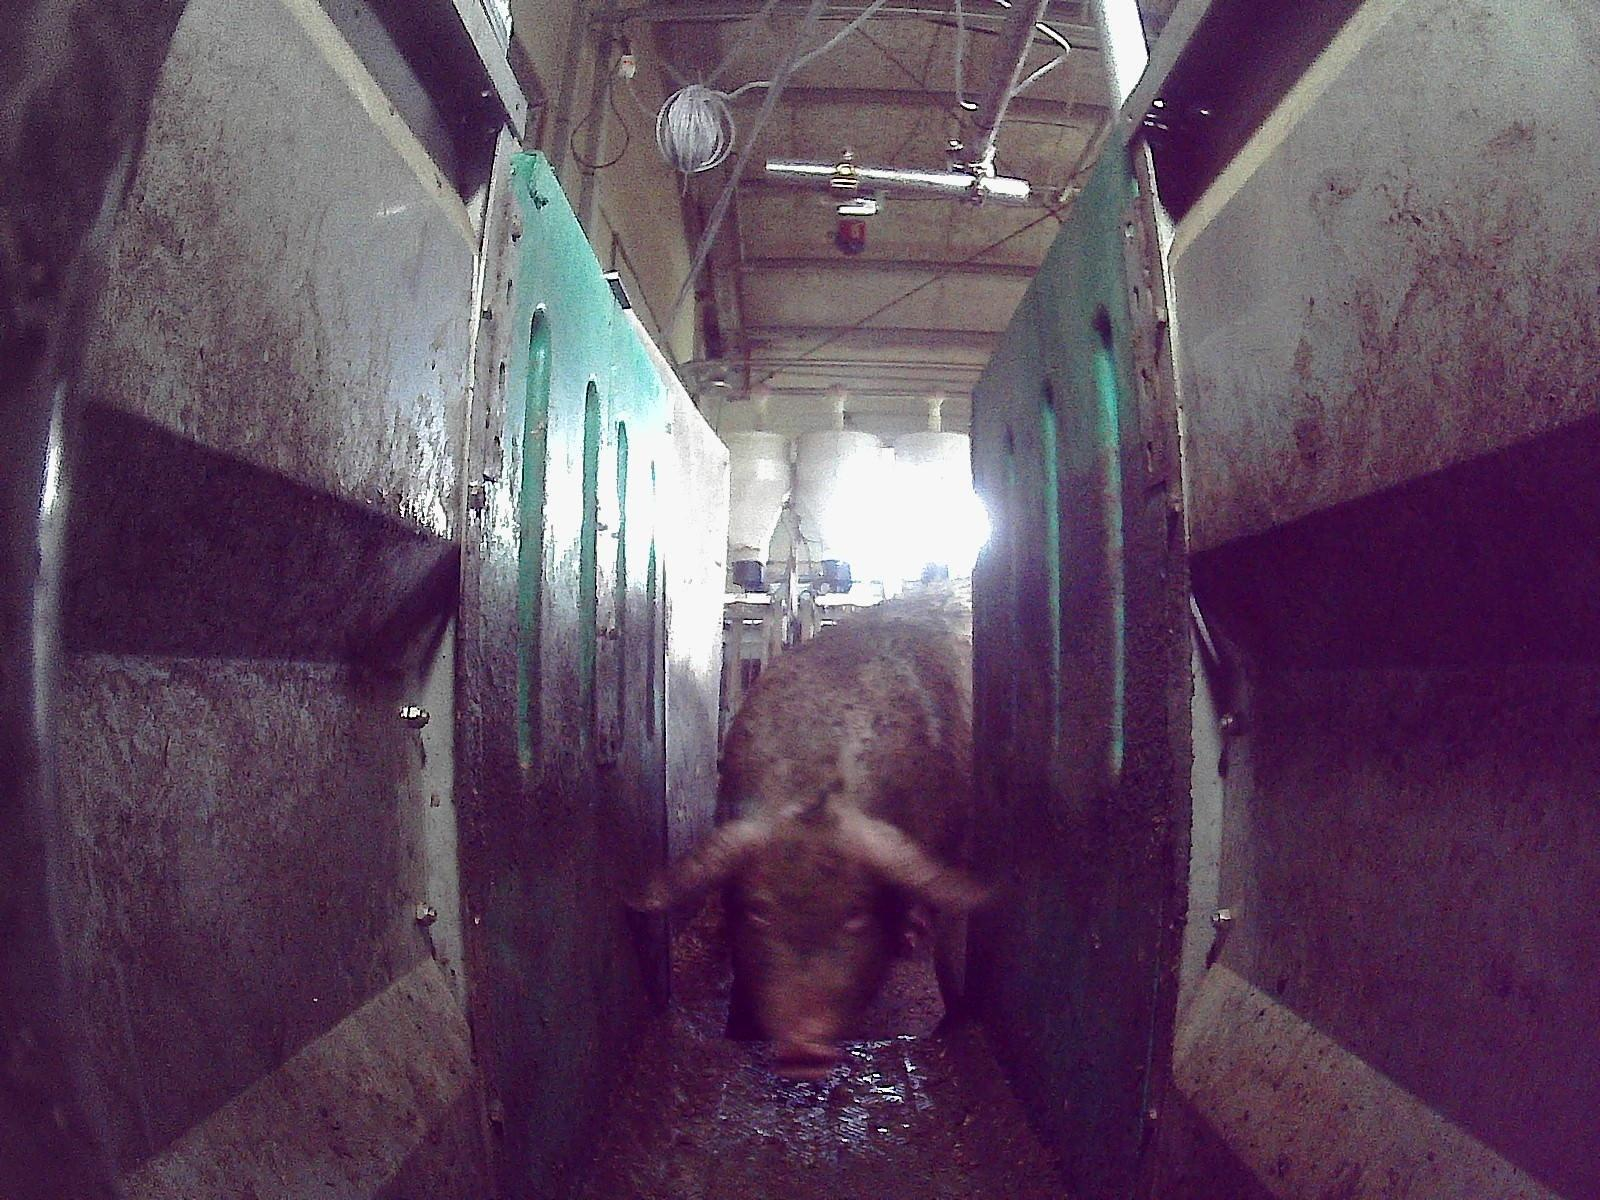Face: (728, 807, 890, 1078)
